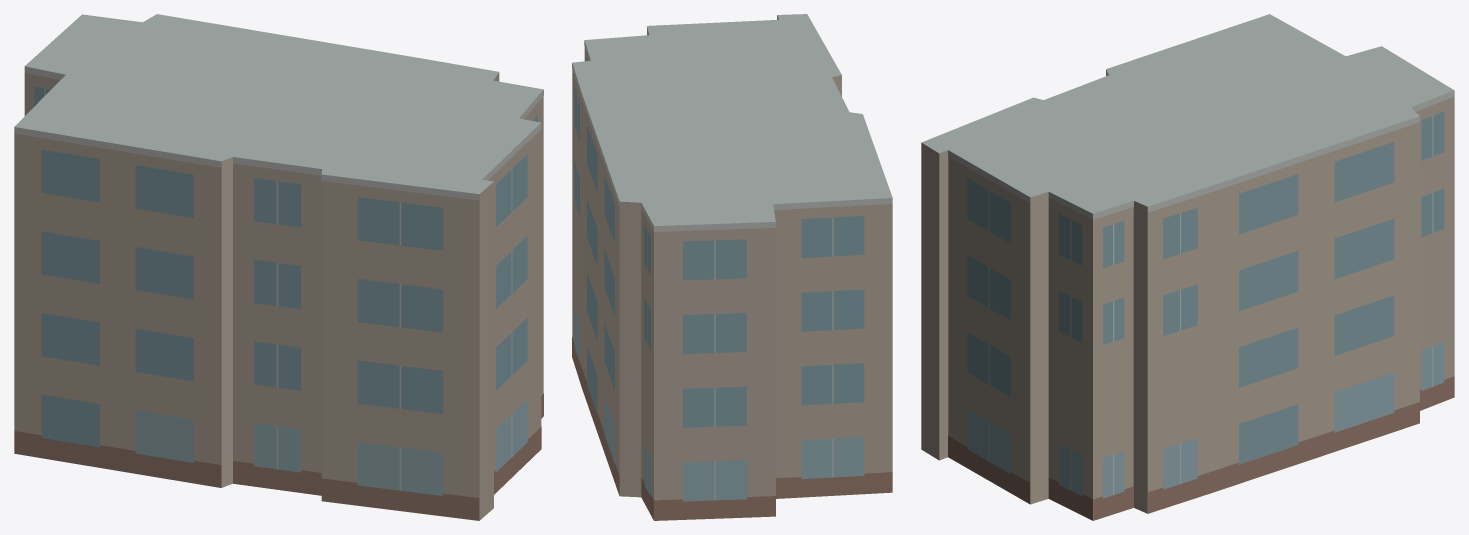
File: survey-upis-32684121.glb
3 views of the same model, side by side, from view 1: azimuth 30°, elevation 25°; view 2: azimuth 150°, elevation 25°; view 3: azimuth 270°, elevation 25° (orthographic). The views are drawn at different scales.
Parts seen in each view (by area): view 1: survey-upis-32684121.tmp; view 2: survey-upis-32684121.tmp; view 3: survey-upis-32684121.tmp.
Boxes of the visible parts, x1=… form: survey-upis-32684121.tmp: x1=14, y1=14, x2=543, y2=520; survey-upis-32684121.tmp: x1=572, y1=14, x2=892, y2=520; survey-upis-32684121.tmp: x1=921, y1=14, x2=1454, y2=520.
Bounding box in the file's own units: 17.03 × 12.2 × 19.2.
